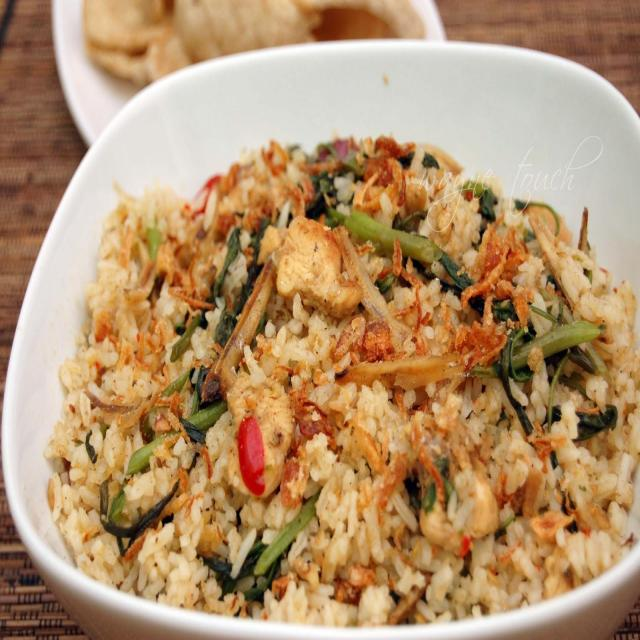Nasi Goreng: (45, 133, 637, 625)
